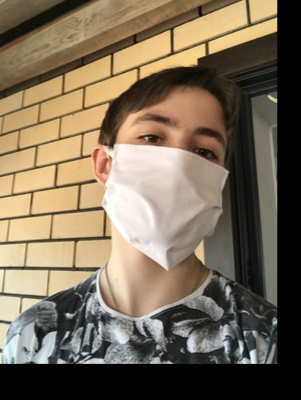with_mask: (100, 107, 229, 270)
